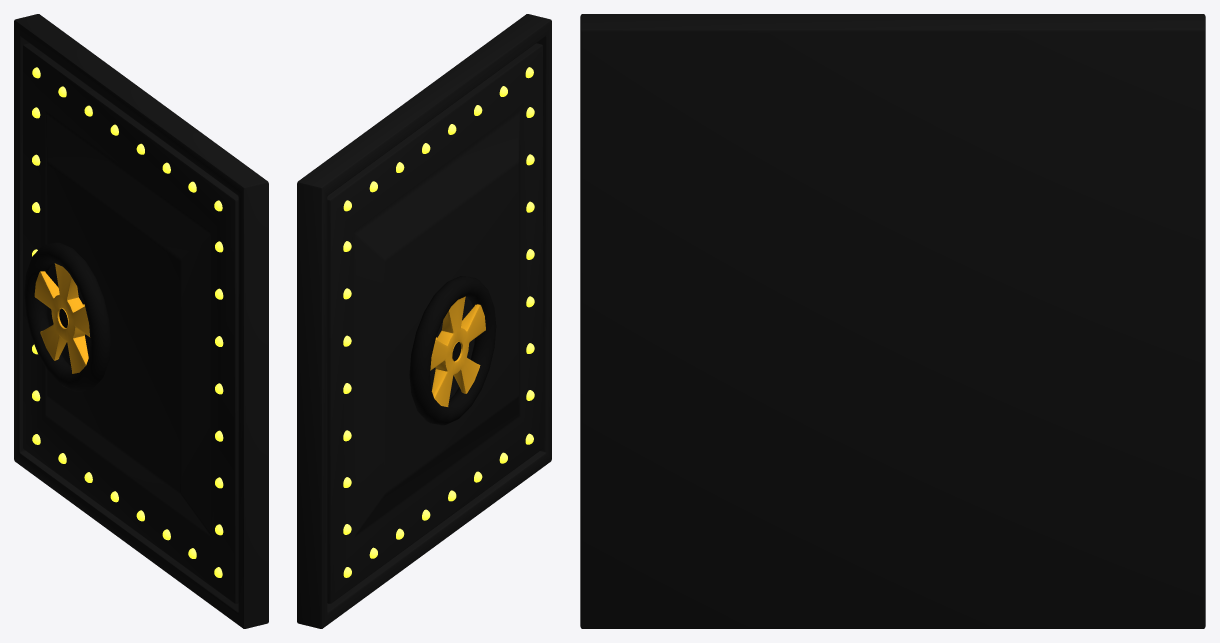
File: PUERTA.fbx
3 views of the same model, side by side, from view 1: azimuth 30°, elevation 25°; view 2: azimuth 150°, elevation 25°; view 3: azimuth 270°, elevation 25° (orthographic). The views are drawn at different scales.
Parts seen in each view (by area): view 1: PUERTA; view 2: PUERTA; view 3: PUERTA.
Boxes of the visible parts, left/top/right/bottom form: PUERTA: left=14, top=14, right=268, bottom=628; PUERTA: left=297, top=14, right=551, bottom=628; PUERTA: left=580, top=14, right=1205, bottom=628.
Size of the model in its own units: 3.69 by 21.42 by 20.23.
